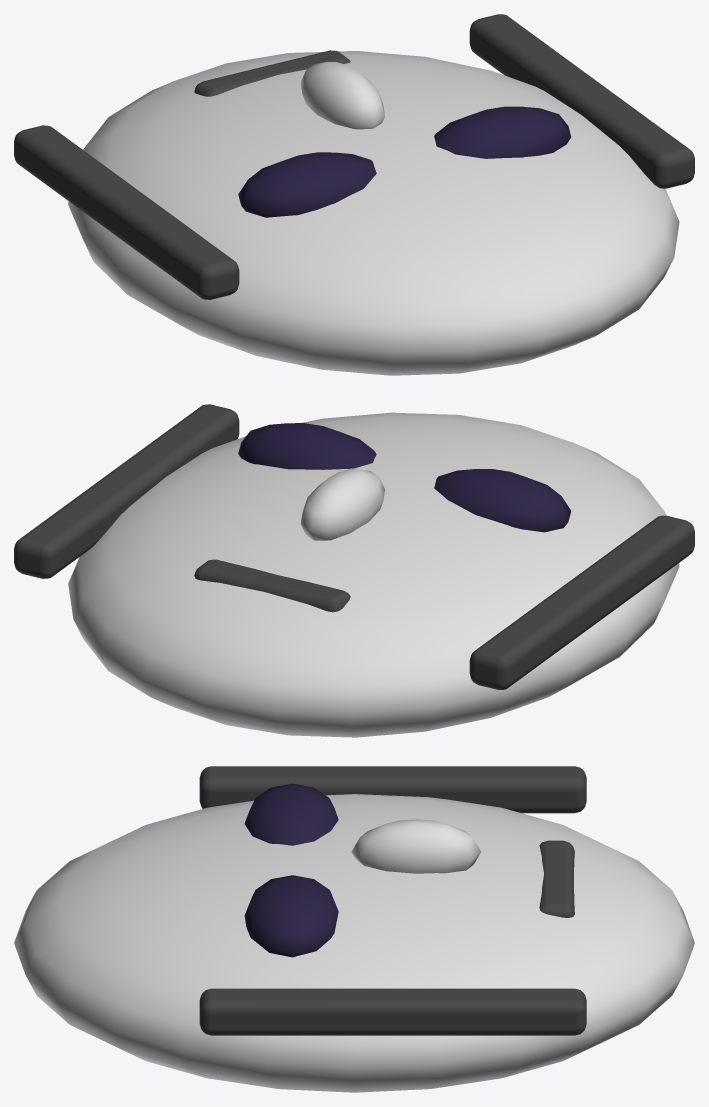
Rendered from mask.glb.
3 views of the same model, one above another, from view 1: azimuth 30°, elevation 25°; view 2: azimuth 150°, elevation 25°; view 3: azimuth 270°, elevation 25° (orthographic).
Visible parts, largest first — view 1: mask; view 2: mask; view 3: mask.
Part boxes in pixels (bbox=[...]): mask: bbox=[14, 14, 694, 375]; mask: bbox=[14, 404, 694, 737]; mask: bbox=[14, 766, 694, 1092].
Size of the model in its own units: 0.76 by 0.292 by 0.88.
